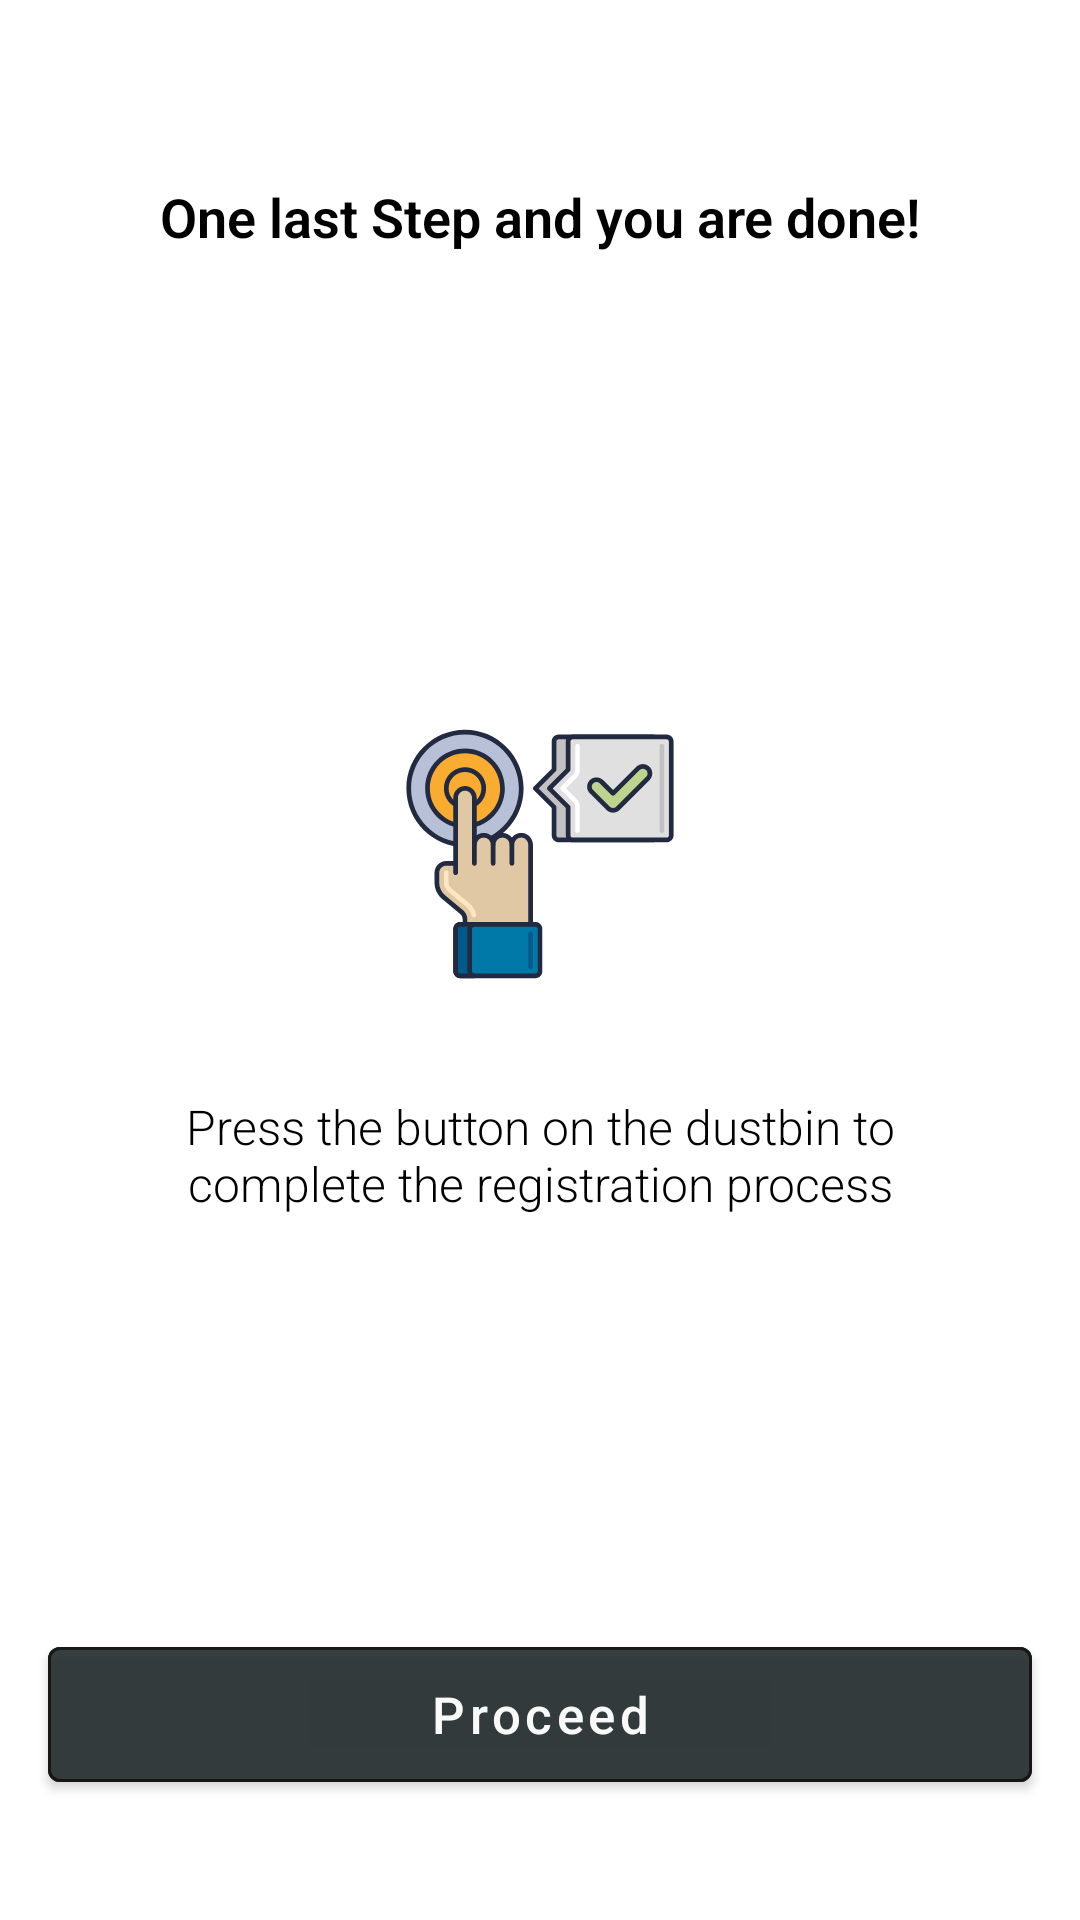

Named icons in this screenshot (1080*1920) and their bounding boxes, bbox=[x1, y1, x2, y2]:
done: bbox=[406, 729, 674, 979]
